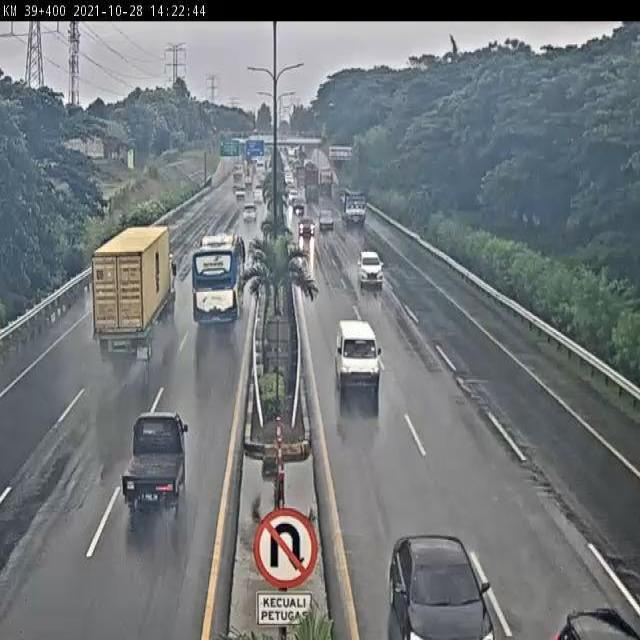ARABA: (121, 414, 189, 514)
OTOBUS: (193, 231, 250, 324)
TIR: (92, 227, 179, 357)
